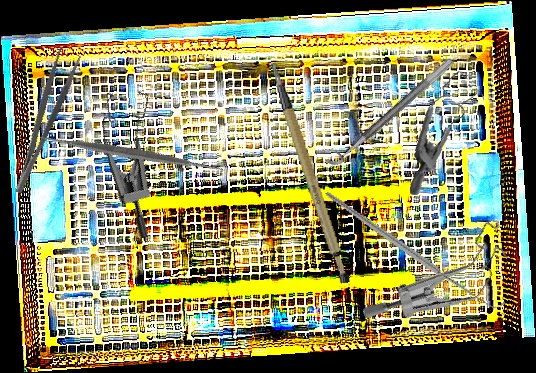Dressing Forceps: (0, 46, 84, 196)
Fixation Ring: (317, 46, 456, 172)
Hook Surgical: (323, 144, 506, 354)
Scalpel Handle: (270, 56, 354, 290)
Spatula Surgical: (34, 56, 229, 251)
Speculum: (358, 185, 525, 366), (73, 76, 206, 241), (399, 68, 493, 196)
